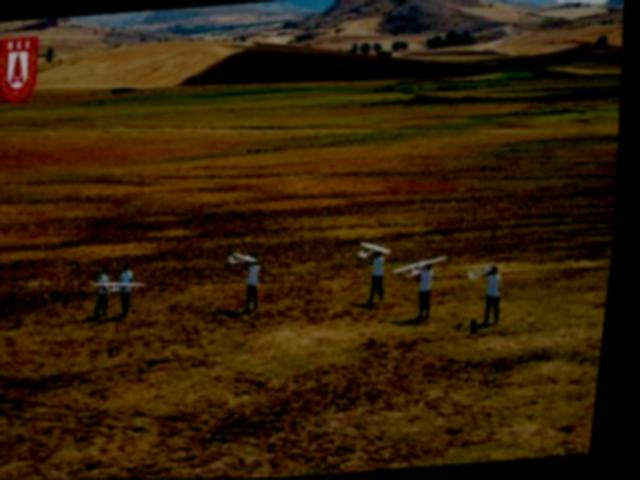uav: (395, 251, 454, 280), (93, 275, 154, 295), (357, 232, 399, 260), (227, 242, 266, 267), (467, 259, 507, 275)
